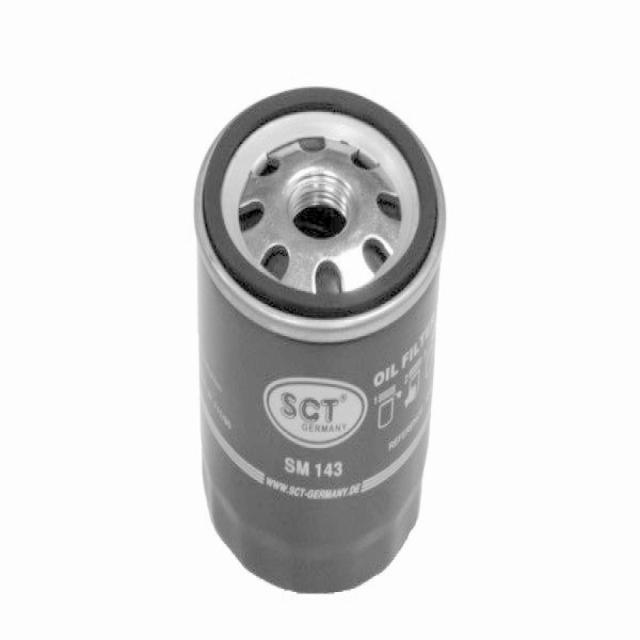oil_filter: (192, 76, 444, 609)
